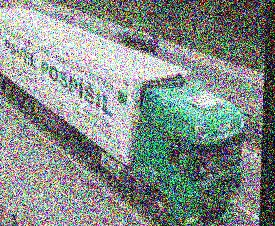car: (119, 29, 160, 51)
